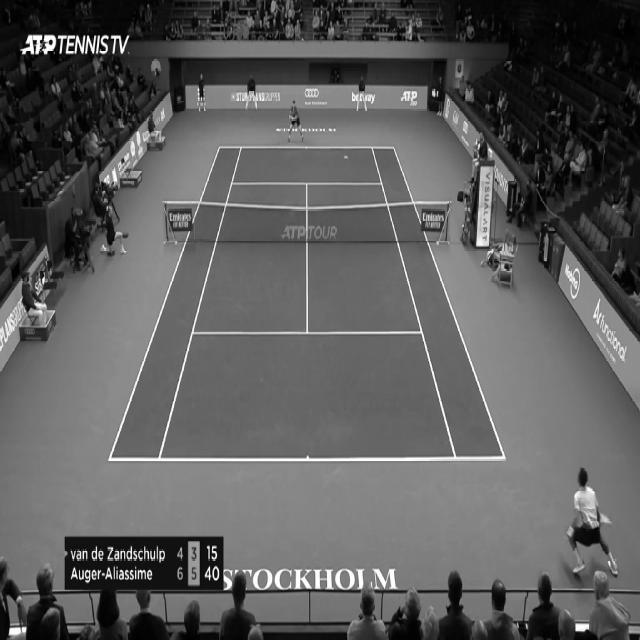tennis-court: (108, 147, 506, 461)
